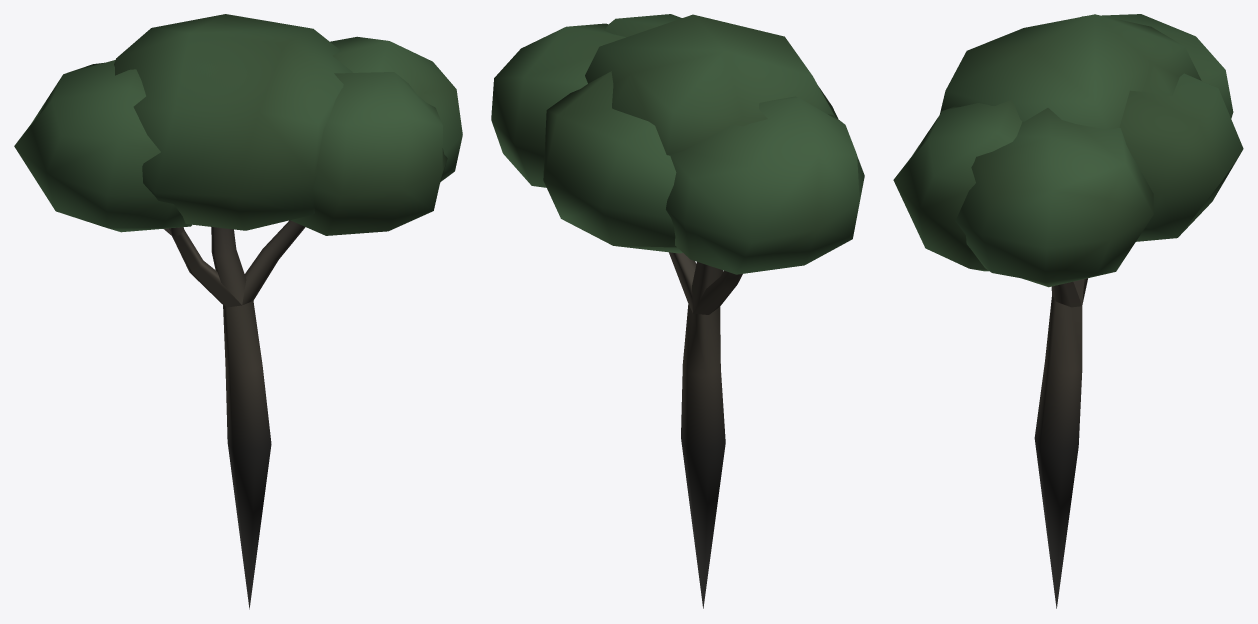
The picture shows the model from 3 angles, left to right: view 1: azimuth 30°, elevation 25°; view 2: azimuth 150°, elevation 25°; view 3: azimuth 270°, elevation 25°; orthographic projection.
Parts seen in each view (by area): view 1: treeDecid.031; view 2: treeDecid.031; view 3: treeDecid.031.
Boxes of the visible parts, x1=… form: treeDecid.031: x1=14, y1=14, x2=462, y2=609; treeDecid.031: x1=491, y1=14, x2=864, y2=608; treeDecid.031: x1=893, y1=14, x2=1243, y2=608.
Size of the model in its own units: 0.3444 by 0.5 by 0.2757.
